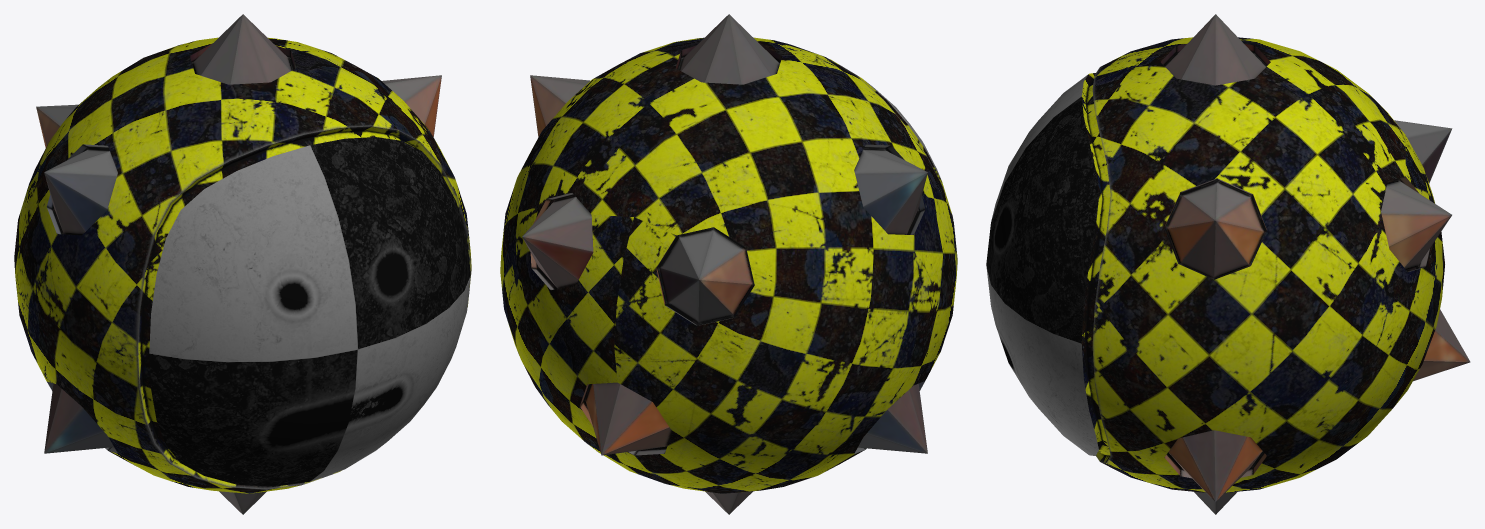
The model's file is Core-Mesh_01.glb.
The picture shows the model from 3 angles, left to right: view 1: azimuth 30°, elevation 25°; view 2: azimuth 150°, elevation 25°; view 3: azimuth 270°, elevation 25°; orthographic projection.
Visible parts, largest first — view 1: Core.Basic_01; view 2: Core.Basic_01; view 3: Core.Basic_01.
Boxes of the visible parts, bbox=[...] form: Core.Basic_01: bbox=[14, 14, 471, 514]; Core.Basic_01: bbox=[500, 14, 957, 514]; Core.Basic_01: bbox=[986, 14, 1470, 514].
Bounding box in the file's own units: 0.3059 × 0.3681 × 0.3226.
1 material, 1 textured.
